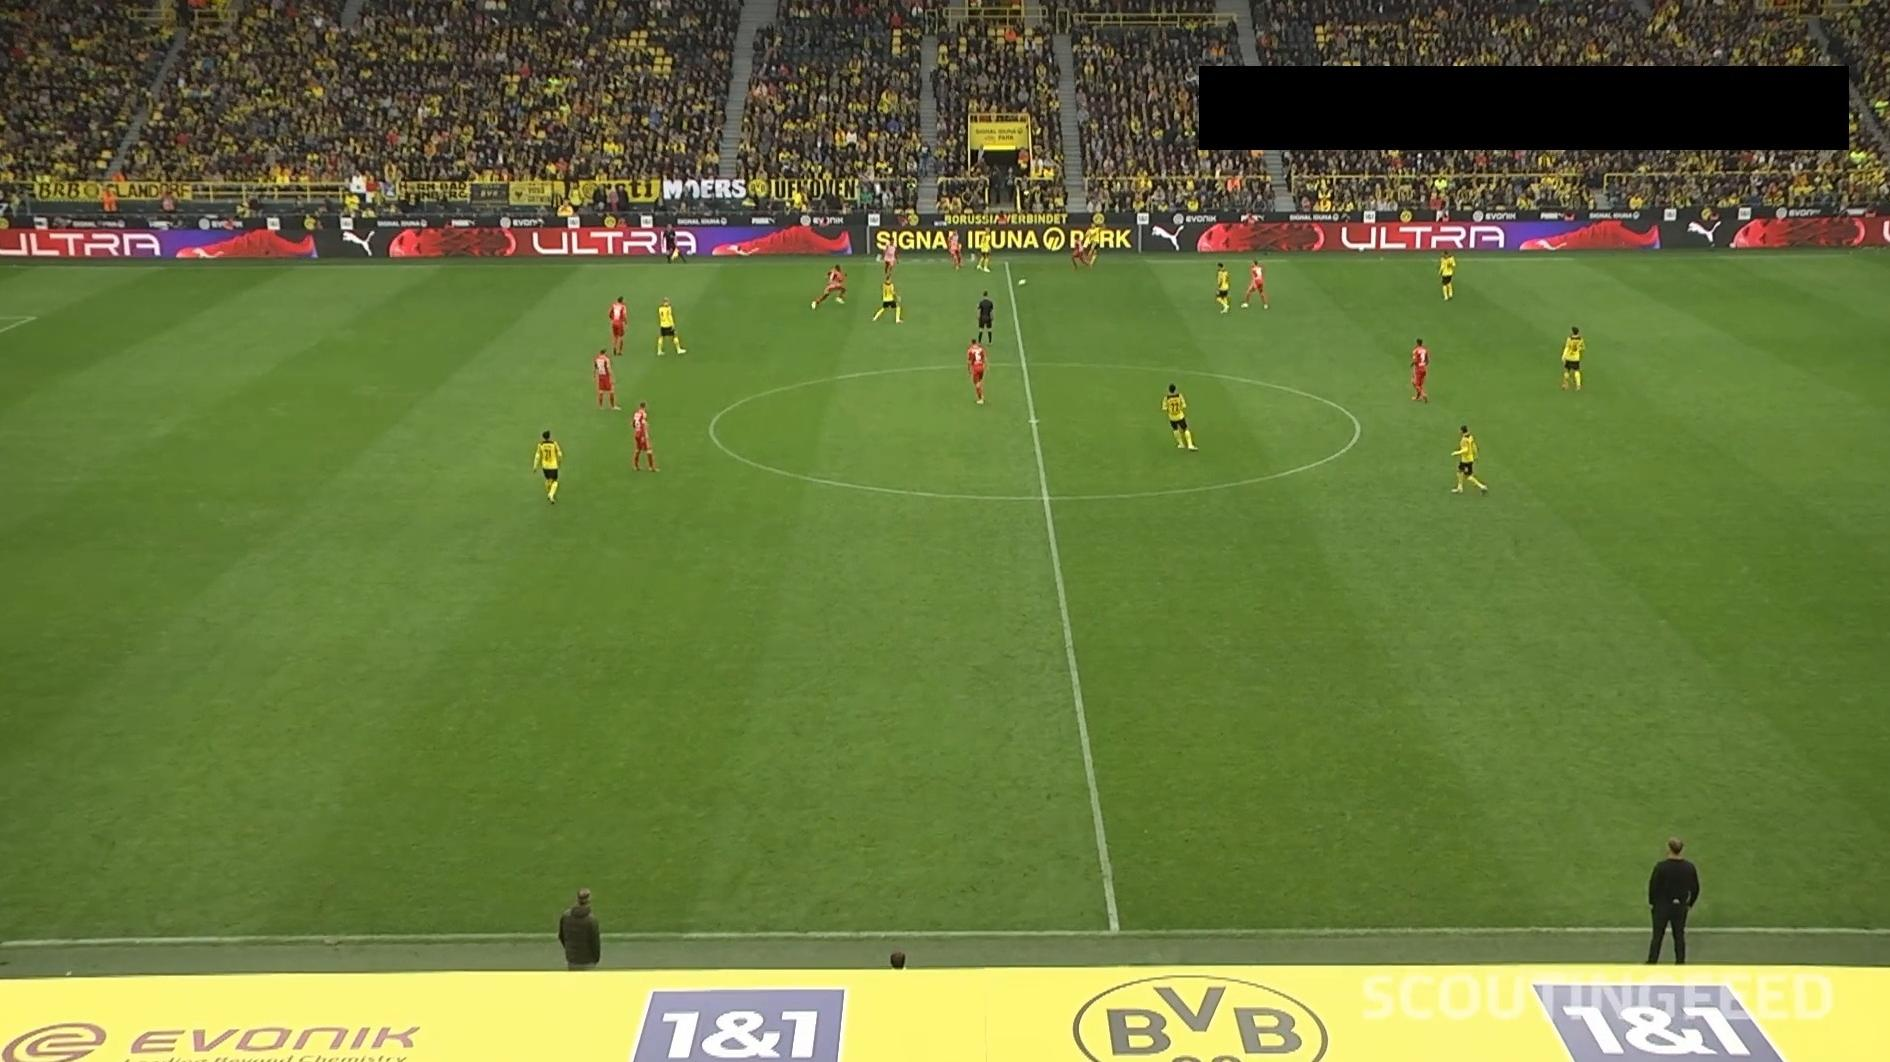ball: (1018, 277, 1027, 287)
